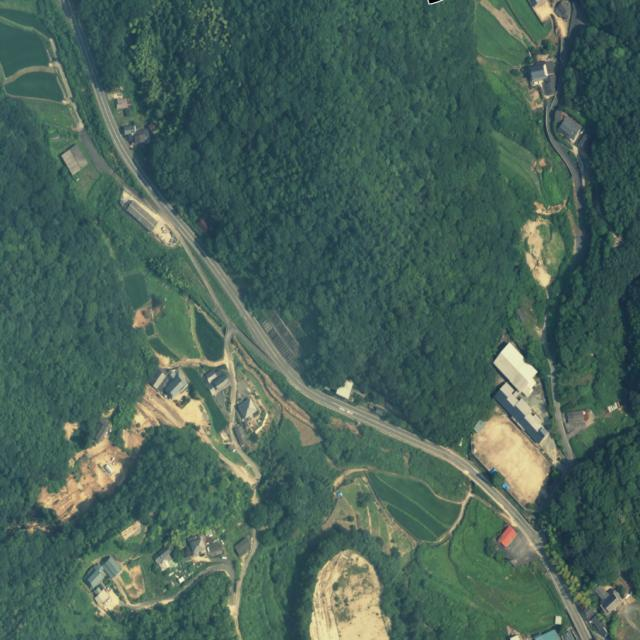landslide: (37, 440, 129, 521), (310, 552, 389, 640), (122, 386, 210, 450)
